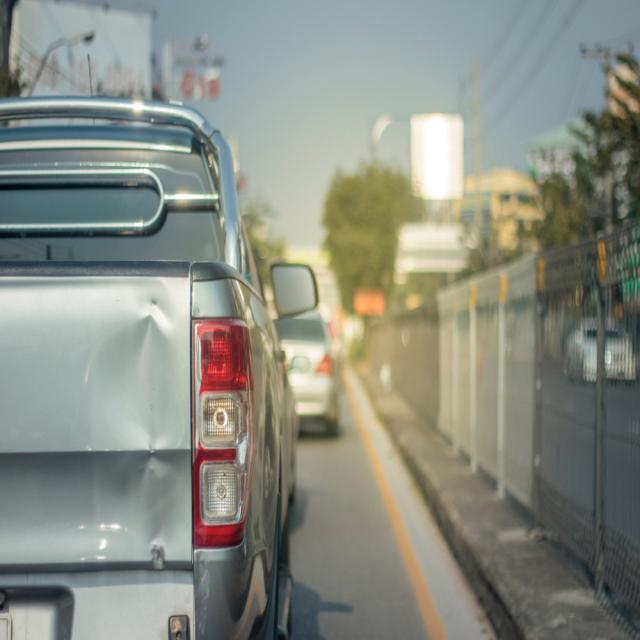Cabossage: (90, 293, 200, 575)
Phare abime: (185, 324, 212, 461), (227, 425, 258, 525)
